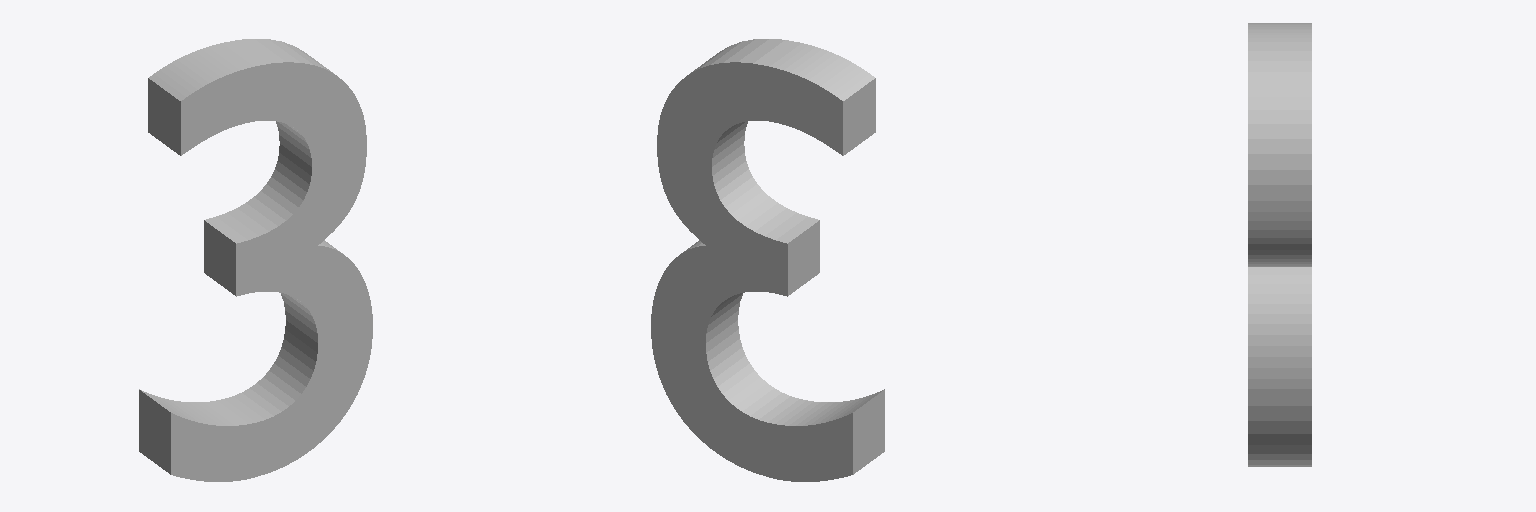
3 views of the same model, side by side, from view 1: azimuth 30°, elevation 25°; view 2: azimuth 150°, elevation 25°; view 3: azimuth 270°, elevation 25° (orthographic).
Visible parts, largest first — view 1: Text.002_CUText.002; view 2: Text.002_CUText.002; view 3: Text.002_CUText.002.
Part boxes in pixels (bbox=[...]): Text.002_CUText.002: bbox=[139, 39, 372, 481]; Text.002_CUText.002: bbox=[651, 39, 884, 481]; Text.002_CUText.002: bbox=[1248, 23, 1311, 466].
Bounding box in the file's own units: 0.36 × 0.7 × 0.1.